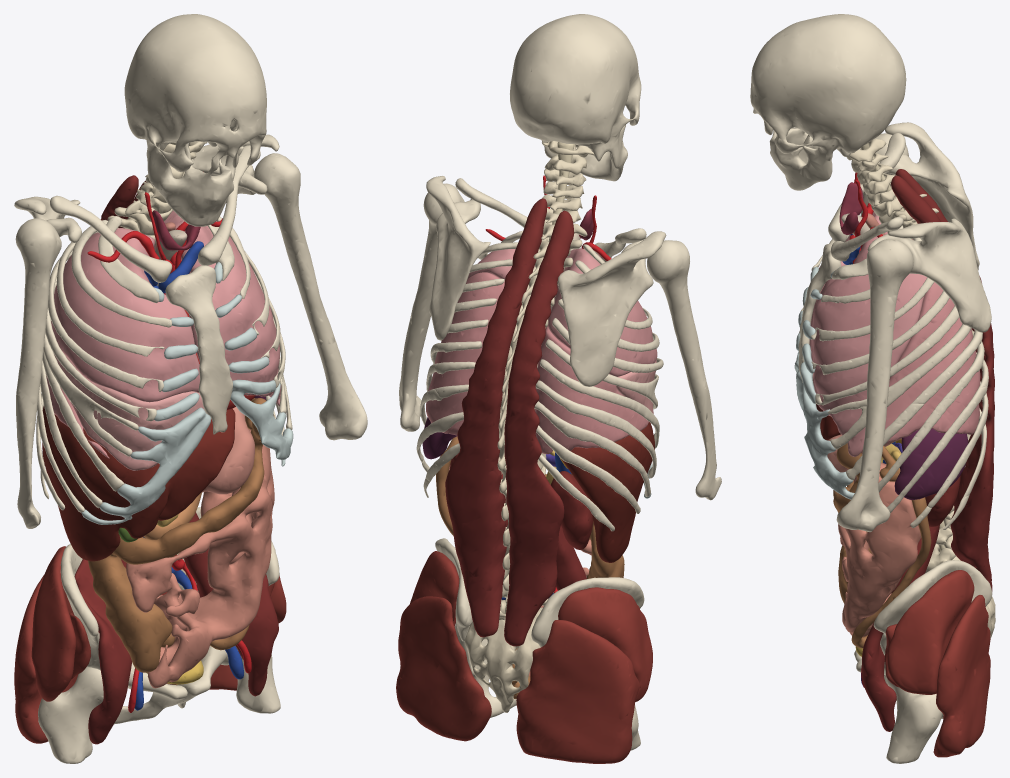
3 renders of one model, left to right at view 1: azimuth 30°, elevation 25°; view 2: azimuth 150°, elevation 25°; view 3: azimuth 270°, elevation 25°, orthographic. The views are drawn at different scales.
Visible parts, largest first — view 1: skull, small_bowel, lung_upper_lobe_right, liver, costal_cartilages, colon, humerus_left, humerus_right, lung_upper_lobe_left, sternum, gluteus_medius_right, iliopsoas_right (+28 smaller); view 2: skull, autochthon_left, autochthon_right, gluteus_maximus_right, gluteus_maximus_left, scapula_right, humerus_right, liver, scapula_left, gluteus_medius_right, lung_lower_lobe_right, humerus_left (+23 smaller); view 3: skull, humerus_left, lung_upper_lobe_left, small_bowel, gluteus_maximus_left, gluteus_medius_left, autochthon_left, scapula_left, lung_lower_lobe_left, scapula_right, costal_cartilages, colon (+24 smaller).
Boxes of the visible parts, bbox=[...] form: skull: bbox=[124, 14, 266, 226]; small_bowel: bbox=[126, 428, 274, 688]; lung_upper_lobe_right: bbox=[51, 228, 199, 402]; liver: bbox=[42, 406, 235, 561]; costal_cartilages: bbox=[81, 262, 293, 524]; colon: bbox=[88, 398, 274, 672]; humerus_left: bbox=[253, 153, 367, 440]; humerus_right: bbox=[15, 218, 61, 528]; lung_upper_lobe_left: bbox=[154, 210, 281, 405]; sternum: bbox=[165, 265, 232, 434]; gluteus_medius_right: bbox=[31, 546, 75, 701]; iliopsoas_right: bbox=[74, 559, 131, 744]; skull: bbox=[510, 14, 641, 181]; autochthon_left: bbox=[445, 198, 547, 637]; autochthon_right: bbox=[504, 210, 574, 646]; gluteus_maximus_right: bbox=[516, 620, 639, 763]; gluteus_maximus_left: bbox=[396, 596, 491, 741]; scapula_right: bbox=[558, 231, 666, 386]; humerus_right: bbox=[647, 240, 721, 500]; liver: bbox=[561, 422, 654, 562]; scapula_left: bbox=[426, 176, 490, 340]; gluteus_medius_right: bbox=[558, 587, 652, 701]; lung_lower_lobe_right: bbox=[535, 326, 651, 454]; humerus_left: bbox=[399, 183, 464, 431]; skull: bbox=[750, 14, 906, 190]; humerus_left: bbox=[836, 239, 913, 531]; lung_upper_lobe_left: bbox=[811, 234, 926, 456]; small_bowel: bbox=[838, 462, 921, 637]; gluteus_maximus_left: bbox=[933, 595, 990, 757]; gluteus_medius_left: bbox=[887, 570, 974, 694]; autochthon_left: bbox=[891, 175, 994, 591]; scapula_left: bbox=[867, 218, 991, 332]; lung_lower_lobe_left: bbox=[885, 282, 980, 444]; scapula_right: bbox=[874, 122, 979, 269]; costal_cartilages: bbox=[794, 267, 854, 499]; colon: bbox=[833, 443, 931, 648].
Size of the model in its own units: 0.4388 by 0.9134 by 0.2929.
